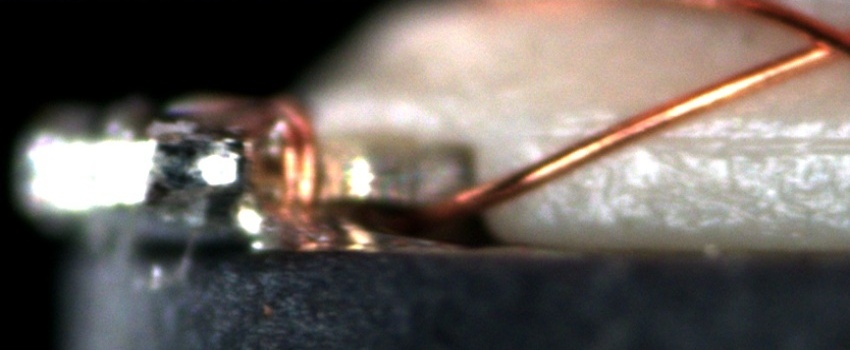CL: (780, 14, 848, 71)
DL: (524, 110, 849, 174)
TE: (241, 92, 325, 229)
